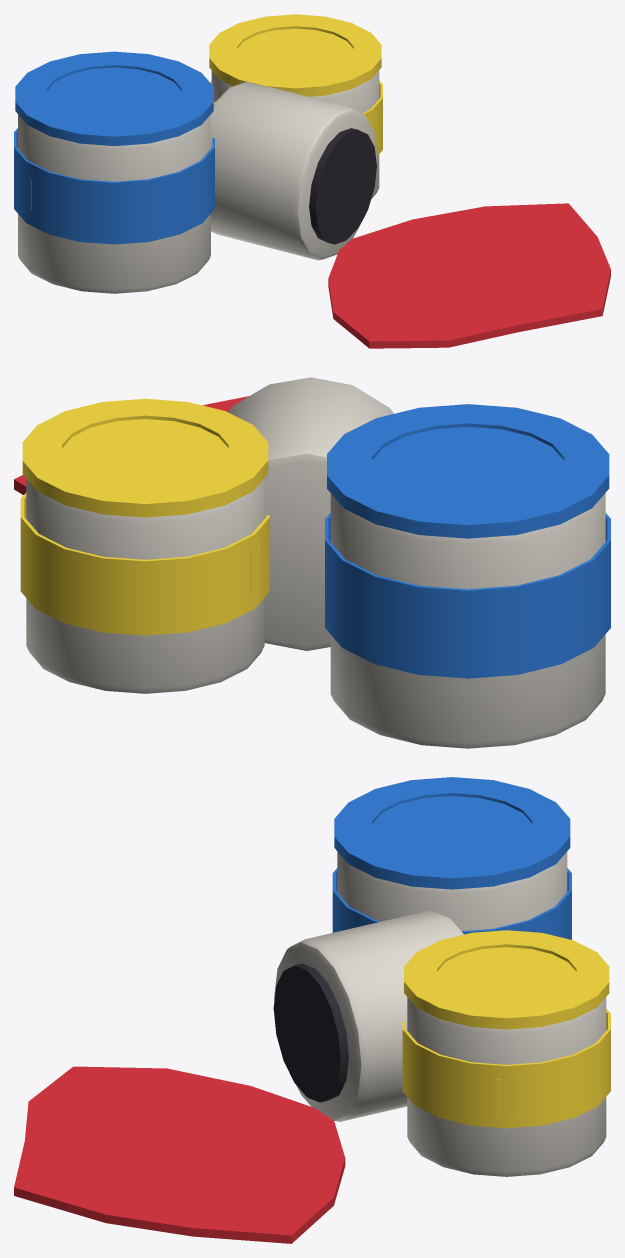
File: paint_cans.glb
3 views of the same model, one above another, from view 1: azimuth 30°, elevation 25°; view 2: azimuth 150°, elevation 25°; view 3: azimuth 270°, elevation 25° (orthographic). The views are drawn at different scales.
Visible parts, largest first — view 1: paint_cans; view 2: paint_cans; view 3: paint_cans.
Boxes of the visible parts, bbox=[...] form: paint_cans: bbox=[14, 14, 610, 348]; paint_cans: bbox=[14, 377, 610, 748]; paint_cans: bbox=[14, 777, 610, 1243].
Size of the model in its own units: 0.8387 by 0.272 by 0.7674.
